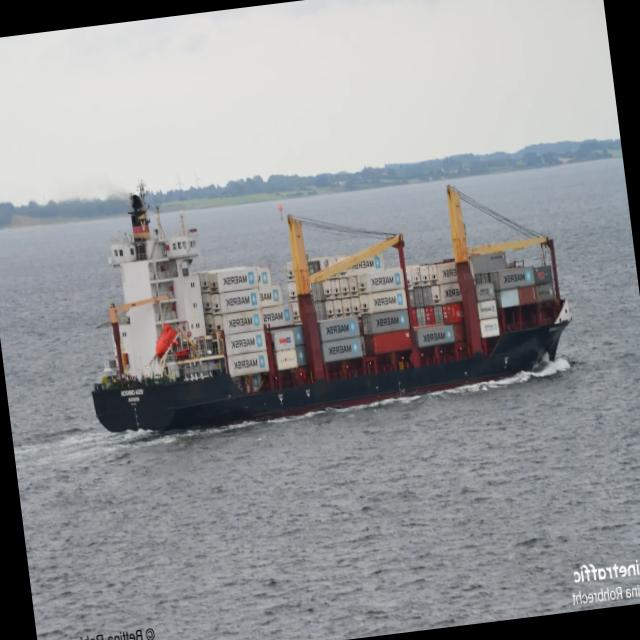Cargo: (90, 186, 571, 432)
